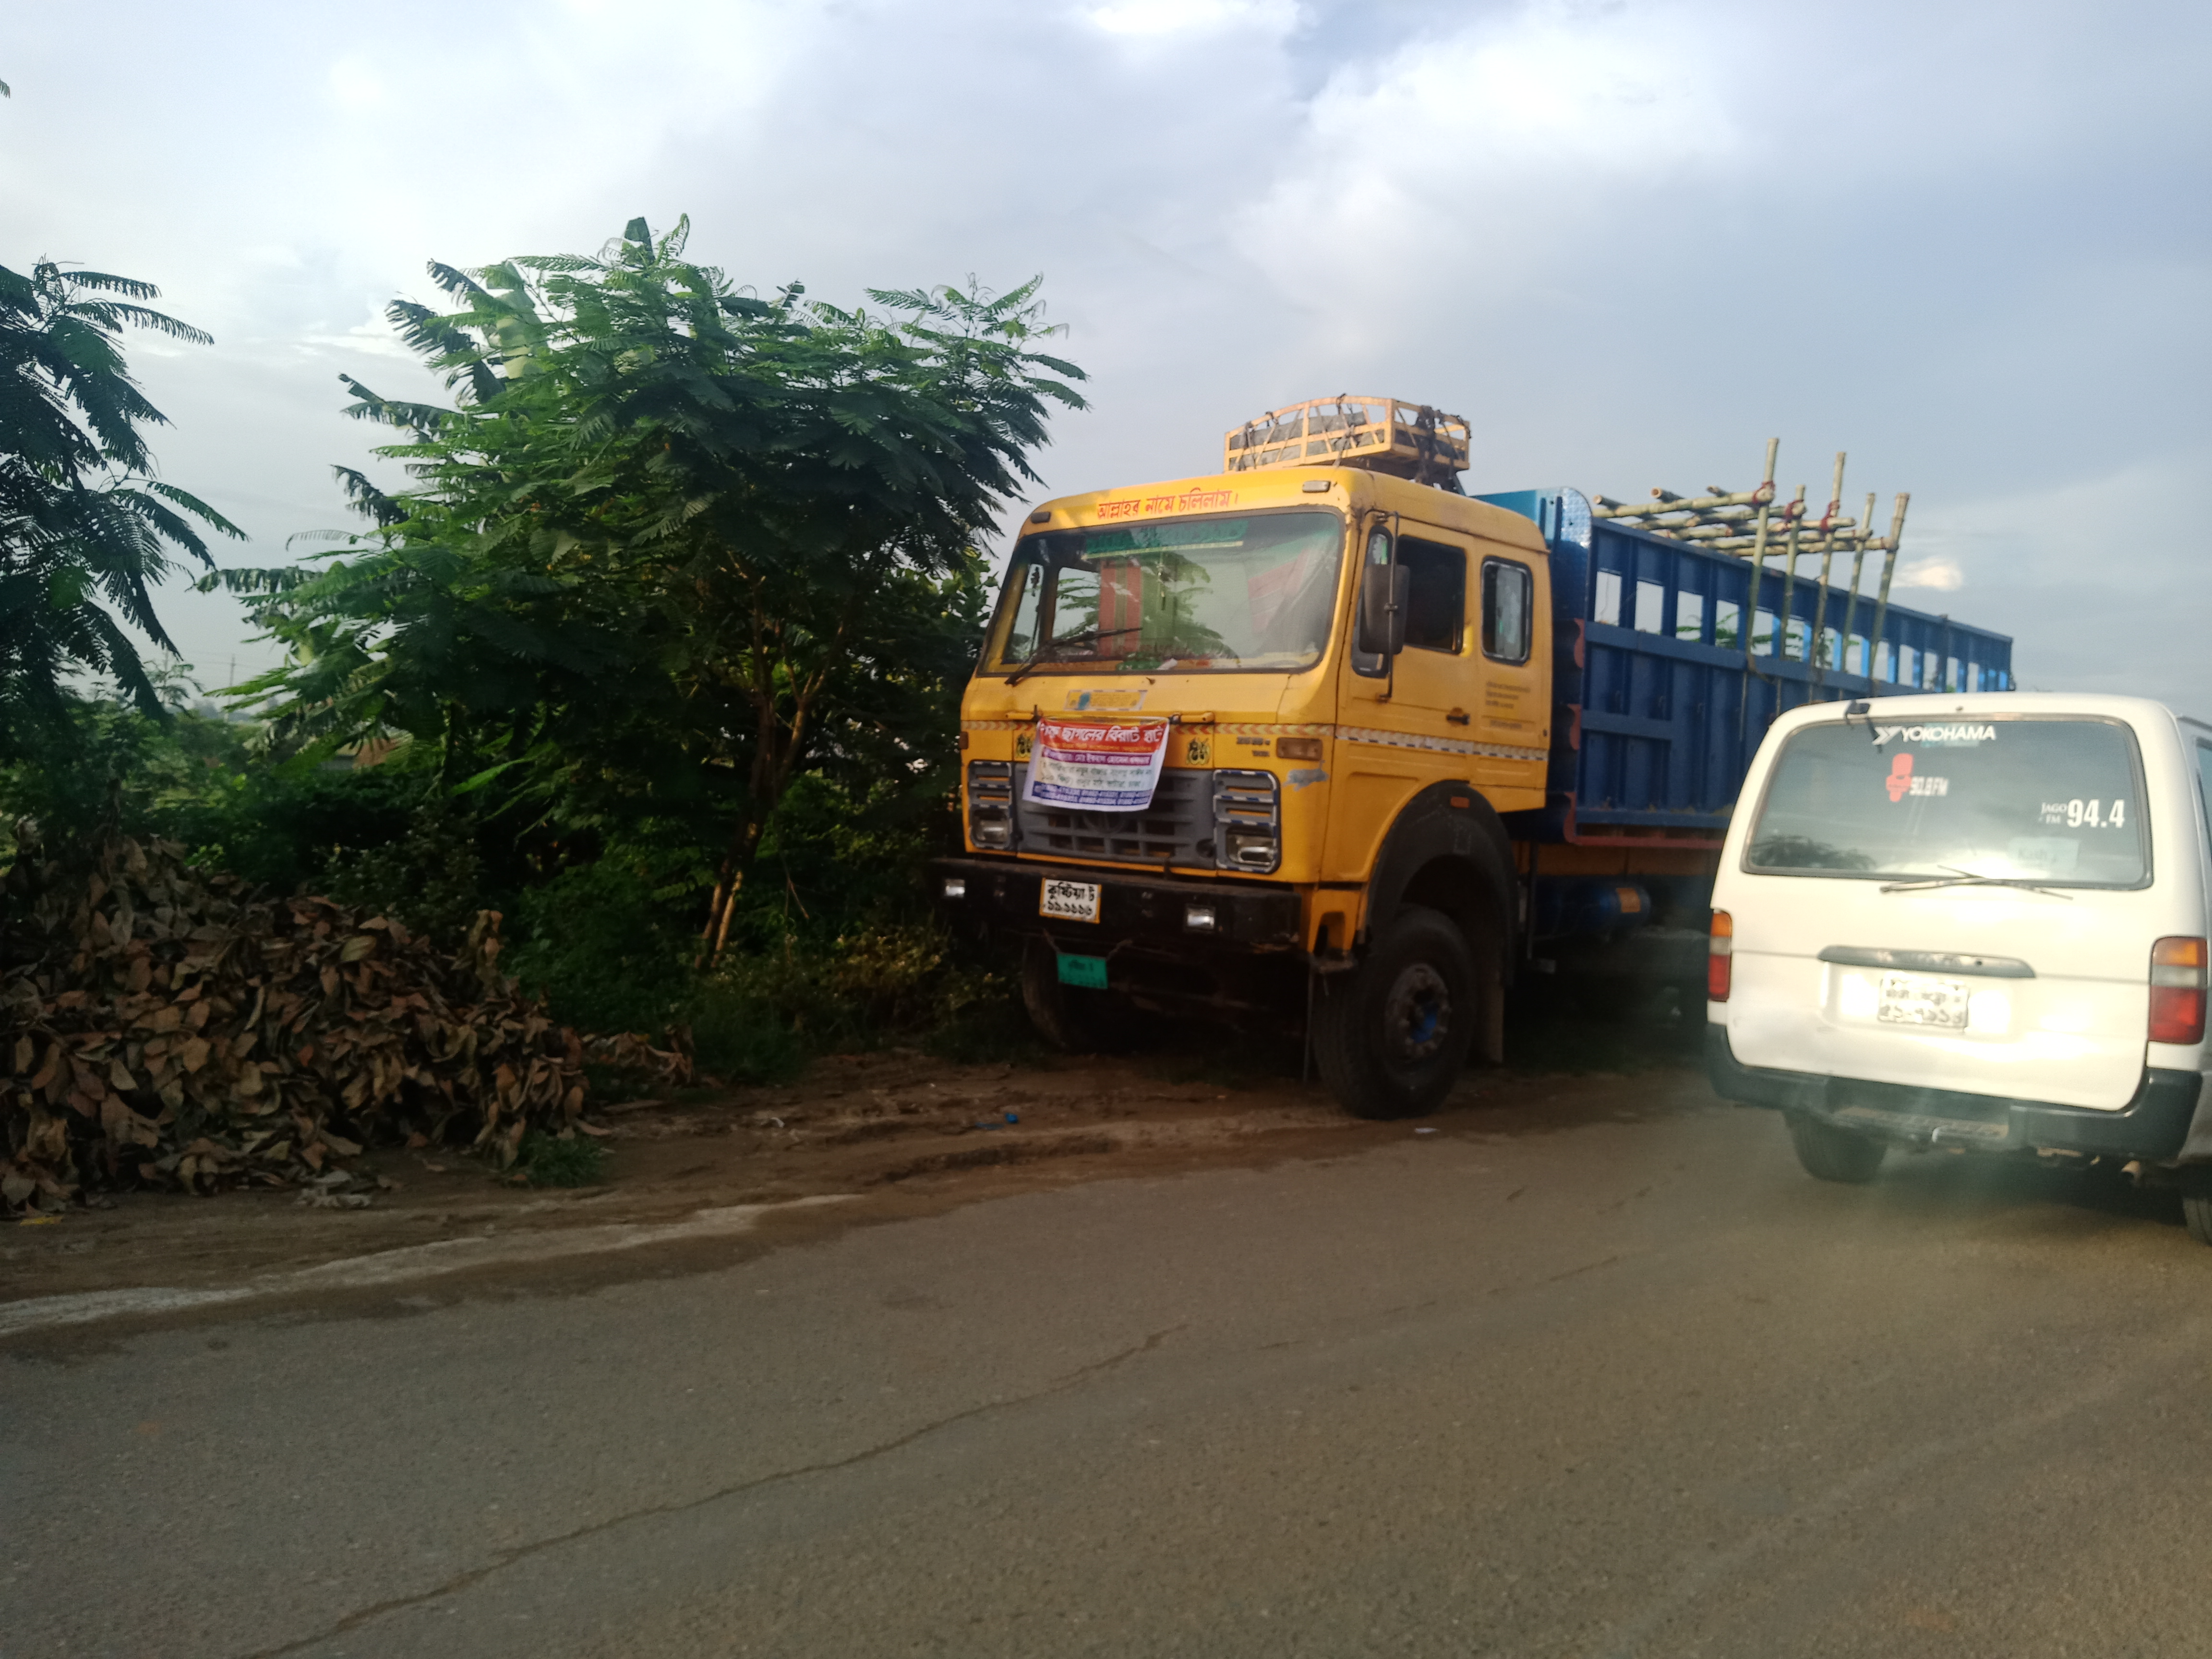car: (1709, 697, 2212, 1248)
truck: (939, 396, 2017, 1115)
